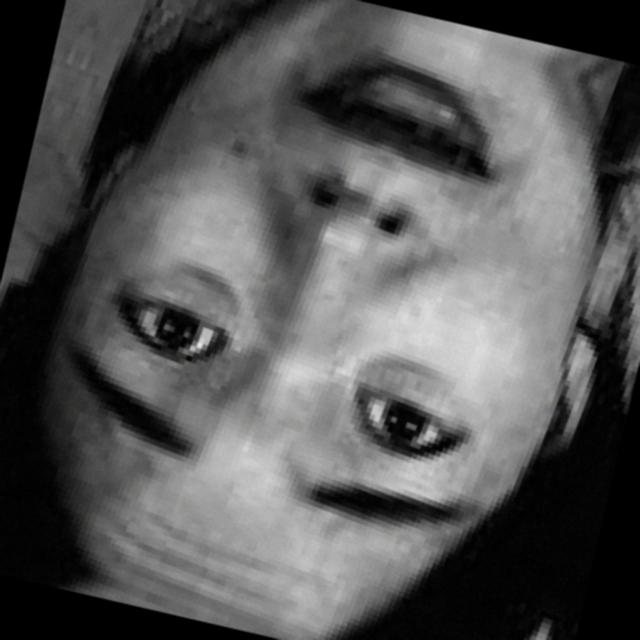fear: (19, 0, 608, 640)
